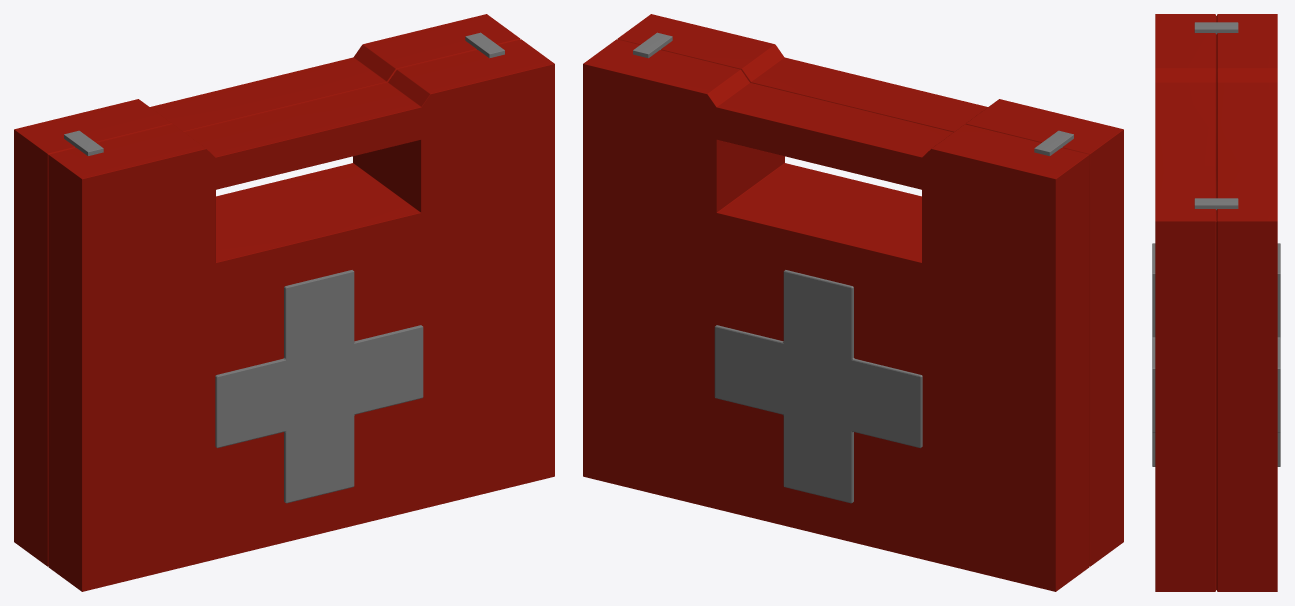
File: Medkit.fbx
3 views of the same model, side by side, from view 1: azimuth 30°, elevation 25°; view 2: azimuth 150°, elevation 25°; view 3: azimuth 270°, elevation 25° (orthographic). The views are drawn at different scales.
Visible parts, largest first — view 1: Box001; view 2: Box001; view 3: Box001.
Part boxes in pixels (x1,y1,x2,y2): Box001: (14,14,554,591); Box001: (583,14,1123,591); Box001: (1152,14,1280,591).
Bounding box in the file's own units: 112 × 94.47 × 29.32.
